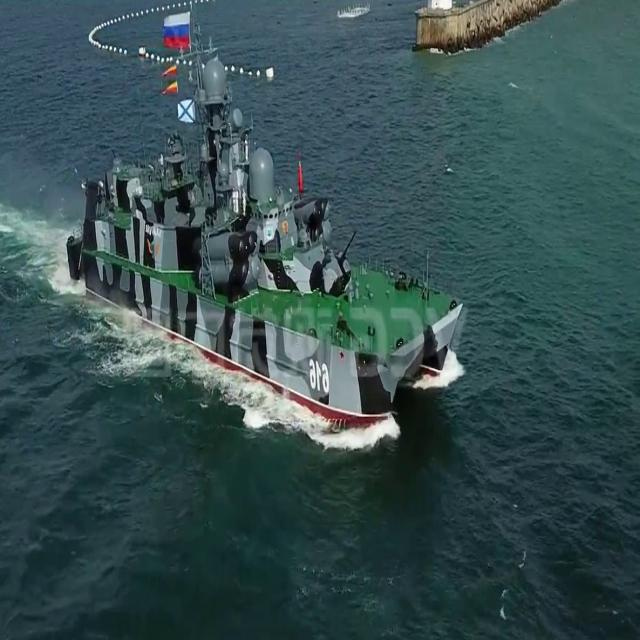navalvessels: (66, 21, 467, 431)
